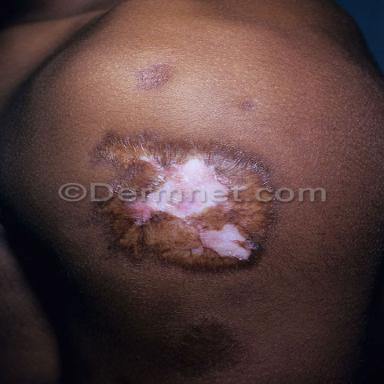Lupus-Erythematosus-Chronicus-Discoides: (104, 201, 274, 270), (94, 131, 269, 192)
